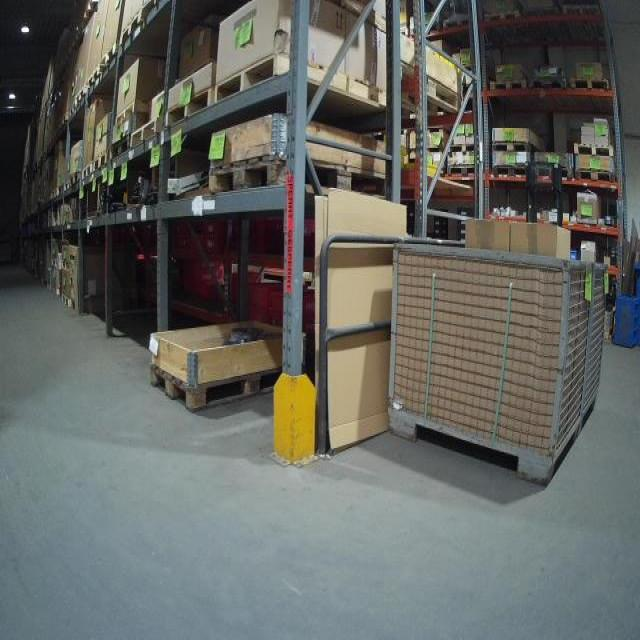pallet: (212, 50, 390, 107), (209, 156, 392, 202), (148, 359, 281, 416), (396, 60, 462, 117), (164, 87, 212, 130), (130, 115, 162, 150), (119, 4, 143, 50), (114, 98, 147, 127), (572, 140, 615, 158), (574, 167, 616, 184), (97, 42, 117, 77), (490, 140, 539, 154), (528, 75, 567, 90), (490, 77, 529, 91), (491, 162, 530, 176), (567, 76, 608, 89), (110, 134, 130, 160), (482, 9, 521, 22), (564, 3, 600, 17), (534, 166, 574, 178), (83, 0, 100, 24), (447, 142, 475, 156), (409, 127, 452, 136), (444, 16, 471, 30), (92, 150, 108, 173), (446, 163, 476, 175), (74, 84, 87, 108), (87, 66, 99, 90), (69, 172, 81, 188), (82, 163, 92, 181), (62, 293, 72, 307)
pallet_truck: (512, 149, 570, 262)
stillage: (387, 230, 610, 485)
